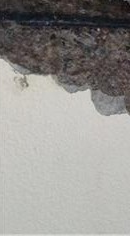Corrosion: (1, 1, 130, 116)
Exposed reinforcement: (1, 11, 130, 28)
